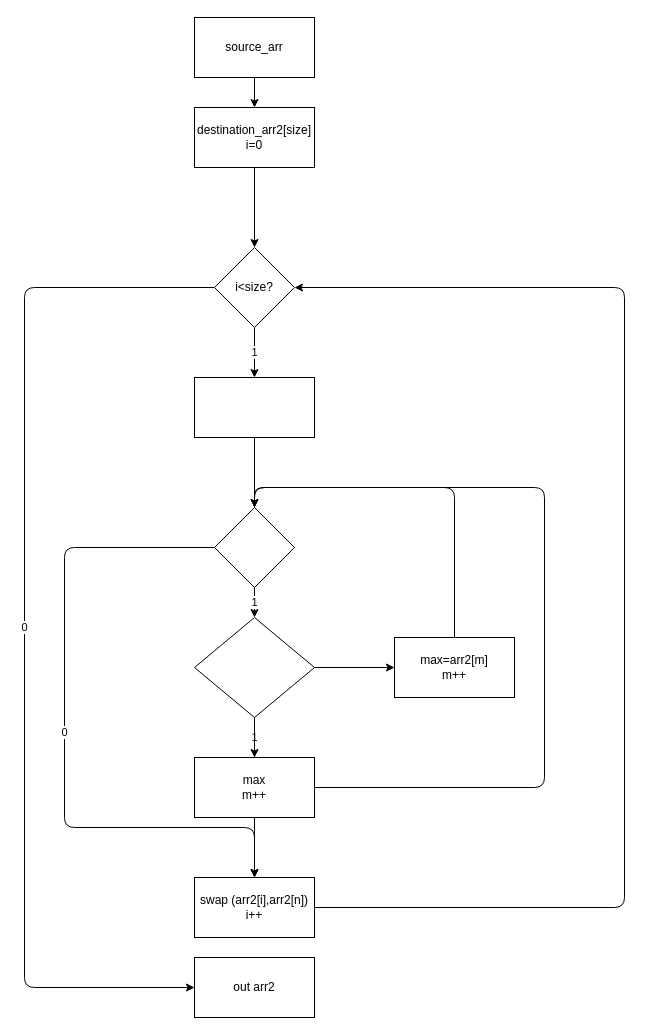
This 650x1035 diagram has some shape labels left out. The centre of each missing label's shape, as x and y in pixels:
"arr2[i]>arr2[m]?" belongs at (x=254, y=667).
"find max in arr2[i]-arr2[size] arr[n]" belongs at (x=254, y=407).
"m<size?" belongs at (x=254, y=547).
